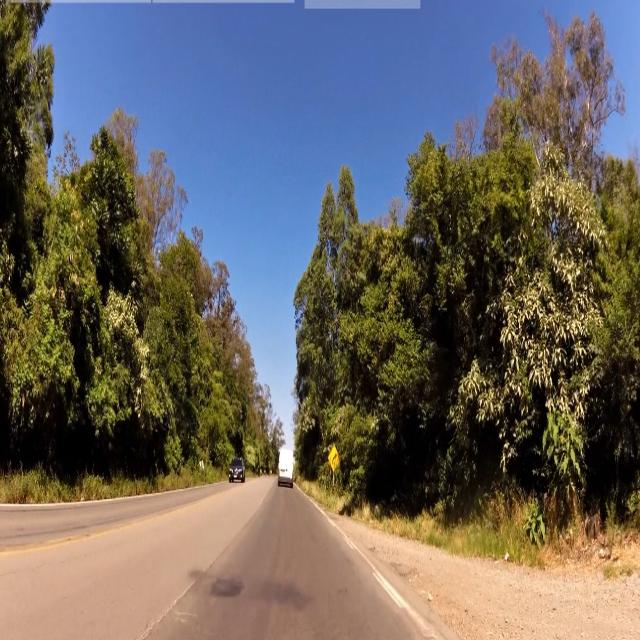A-2b: (327, 445, 341, 475)
